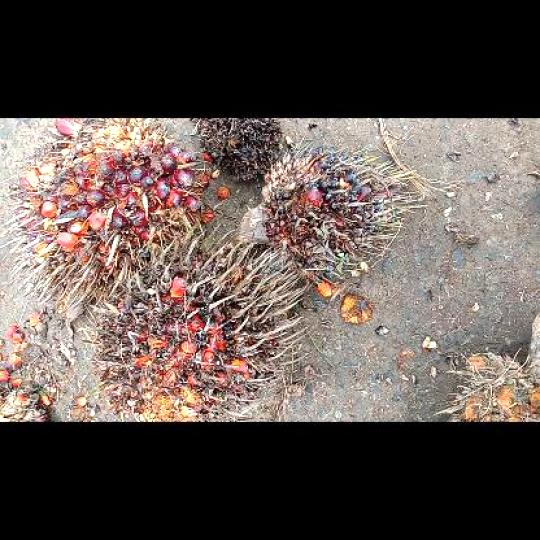masak: (8, 119, 213, 312)
terlalu masak: (89, 233, 313, 421)
